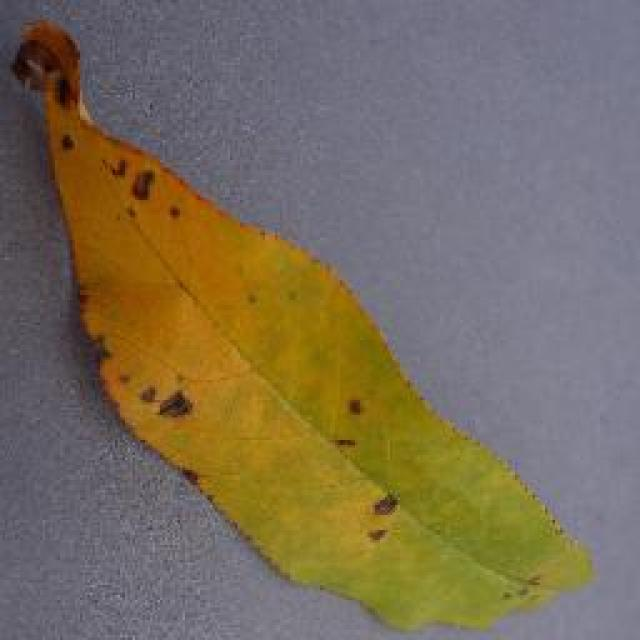Peach_Bacterial_Spot: (55, 86, 370, 502)
